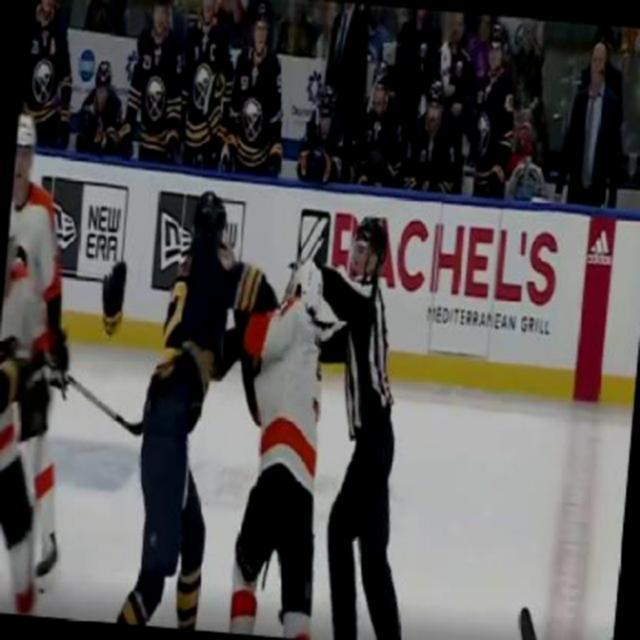fight: (125, 186, 344, 640)
